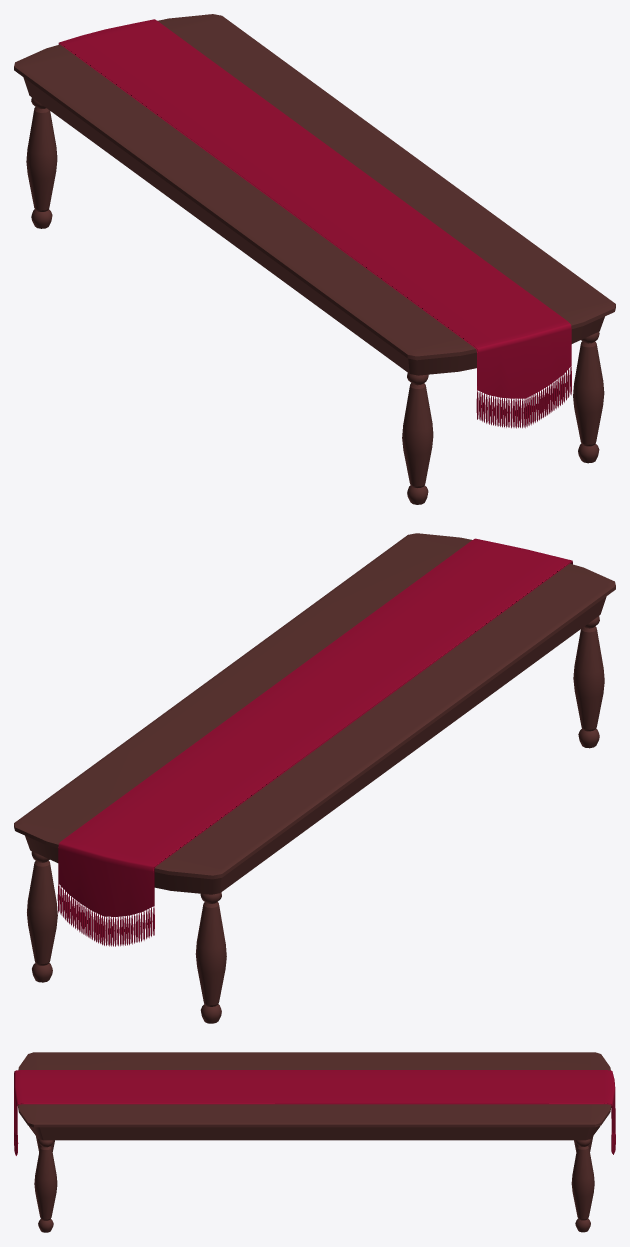
The model's file is table_frere_grimm_estrade.fbx.
3 views of the same model, one above another, from view 1: azimuth 30°, elevation 25°; view 2: azimuth 150°, elevation 25°; view 3: azimuth 270°, elevation 25° (orthographic). The views are drawn at different scales.
Parts seen in each view (by area): view 1: table_buffet, chemin_de_table; view 2: table_buffet, chemin_de_table; view 3: table_buffet, chemin_de_table.
Boxes of the visible parts, <box> form: table_buffet: <box>14,14,615,504</box>; chemin_de_table: <box>58,19,571,428</box>; table_buffet: <box>14,533,615,1023</box>; chemin_de_table: <box>57,538,572,946</box>; table_buffet: <box>18,1052,611,1232</box>; chemin_de_table: <box>14,1070,615,1155</box>.
Bounding box in the file's own units: 32.92 × 24.26 × 116.
